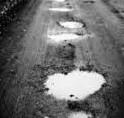pothole: (43, 66, 108, 104), (56, 19, 86, 29), (49, 32, 82, 41), (65, 109, 95, 118)
